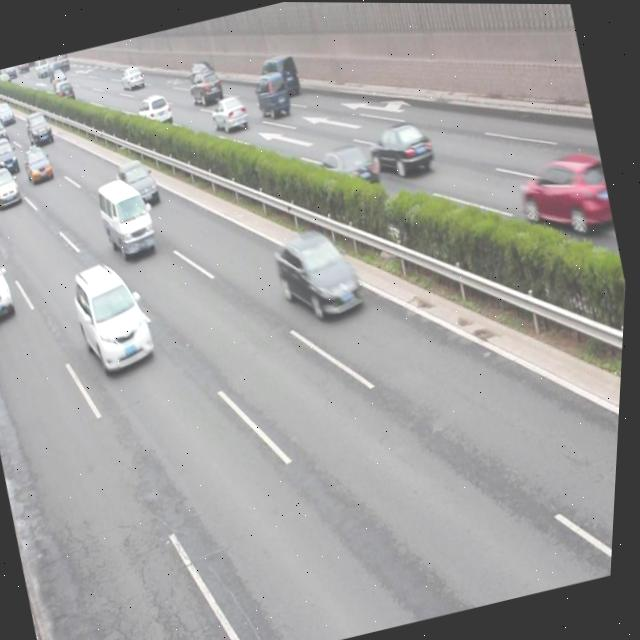car: (69, 257, 165, 379), (270, 219, 372, 329), (365, 117, 439, 183), (316, 138, 384, 199), (115, 156, 164, 210), (251, 69, 294, 122), (207, 91, 252, 135), (135, 92, 176, 132), (187, 66, 226, 107), (21, 142, 57, 186), (0, 249, 21, 322), (0, 166, 27, 212), (24, 110, 57, 147), (0, 137, 23, 179), (187, 59, 217, 86), (119, 64, 146, 90), (52, 78, 77, 105), (0, 99, 18, 129), (0, 117, 11, 146)
truck: (92, 174, 164, 265), (256, 52, 303, 102)
